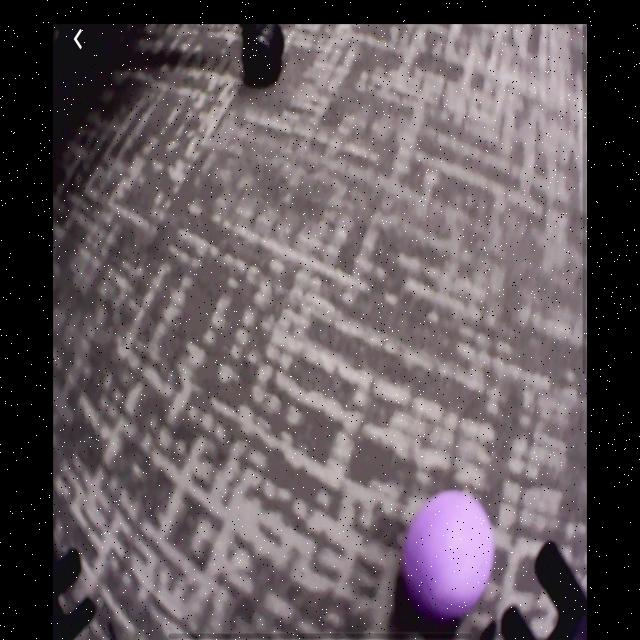ball: (401, 488, 497, 627)
